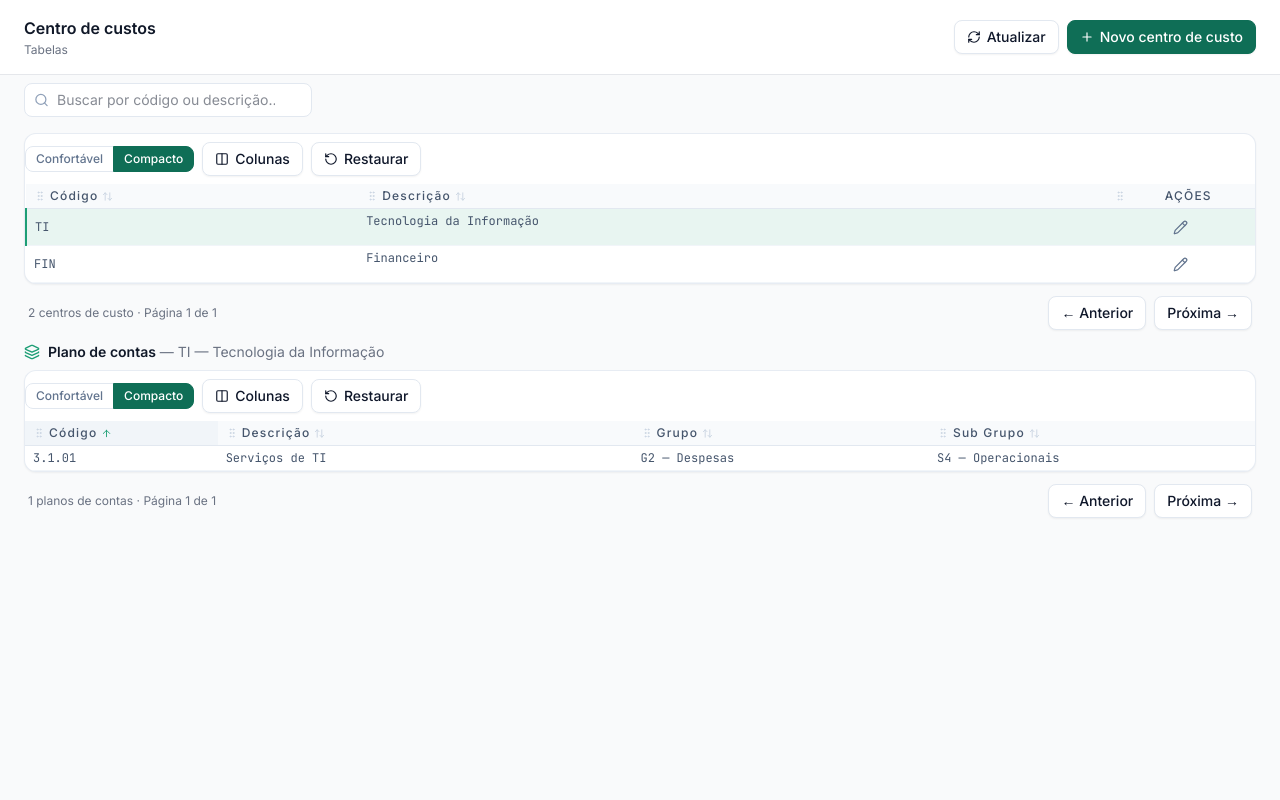
Test case: CostCentersPage › abre o modal ao clicar em "Novo centro de custo"
Check: the text "Tecnologia da Informação" is shown, box 358,208 -> 1106,246
Click the button "Novo centro de custo" at (1161, 37), box 1067,20 -> 1256,54
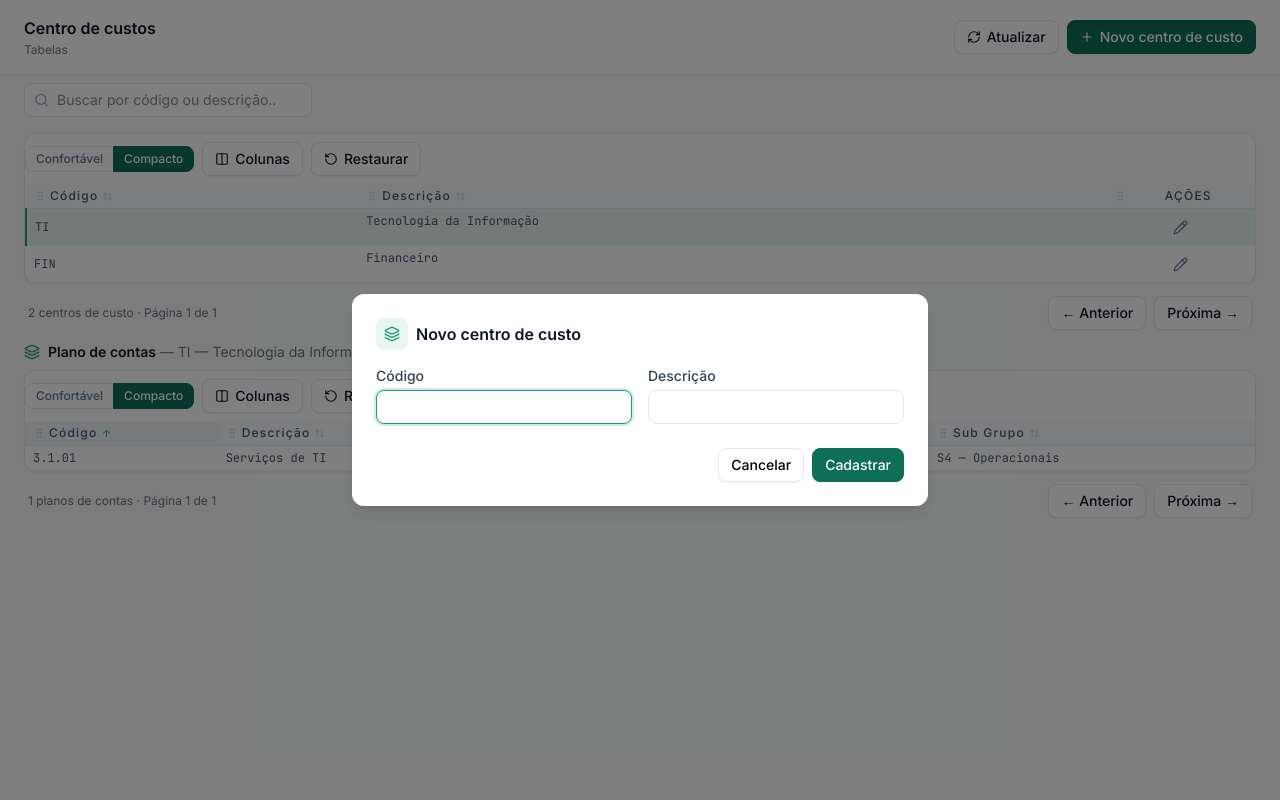
Check: the button "Cadastrar" is shown, box 812,448 -> 904,482
